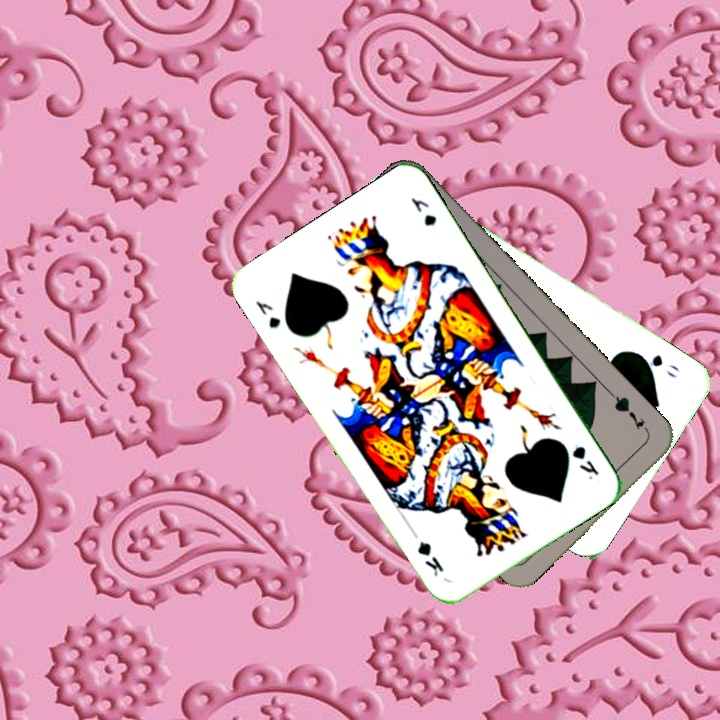G7: (607, 389, 652, 437)
GK: (568, 440, 602, 483), (251, 296, 284, 331)
GO: (633, 349, 681, 381)
